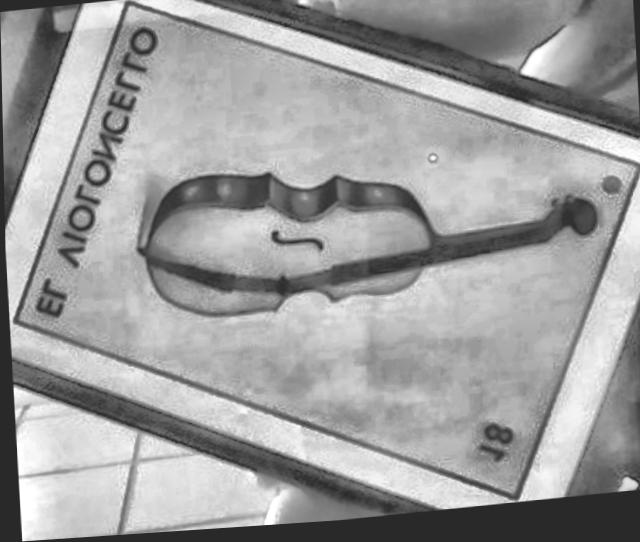El Violoncello: (17, 7, 637, 501)
